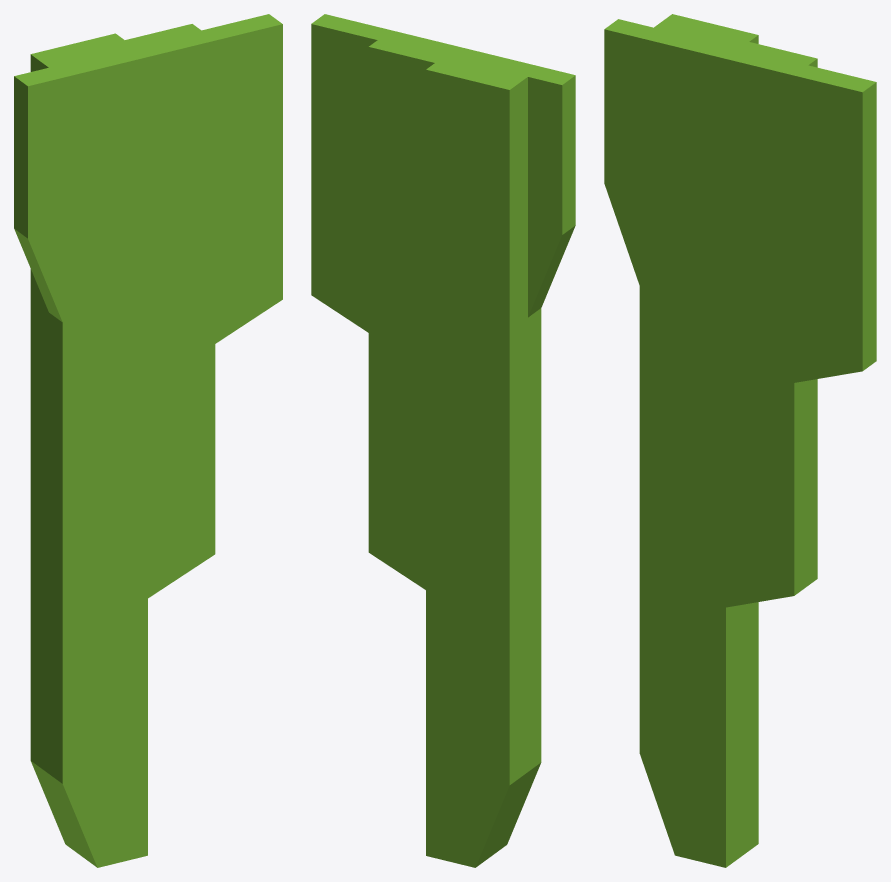
File: moss_hang.glb
The picture shows the model from 3 angles, left to right: view 1: azimuth 30°, elevation 25°; view 2: azimuth 150°, elevation 25°; view 3: azimuth 330°, elevation 25°; orthographic projection. The views are drawn at different scales.
Parts seen in each view (by area): view 1: hanging_moss; view 2: hanging_moss; view 3: hanging_moss.
Boxes of the visible parts, bbox=[...] form: hanging_moss: bbox=[14, 14, 282, 867]; hanging_moss: bbox=[311, 14, 575, 867]; hanging_moss: bbox=[604, 14, 876, 867].
Size of the model in its own units: 0.3516 by 1.05 by 0.077.
